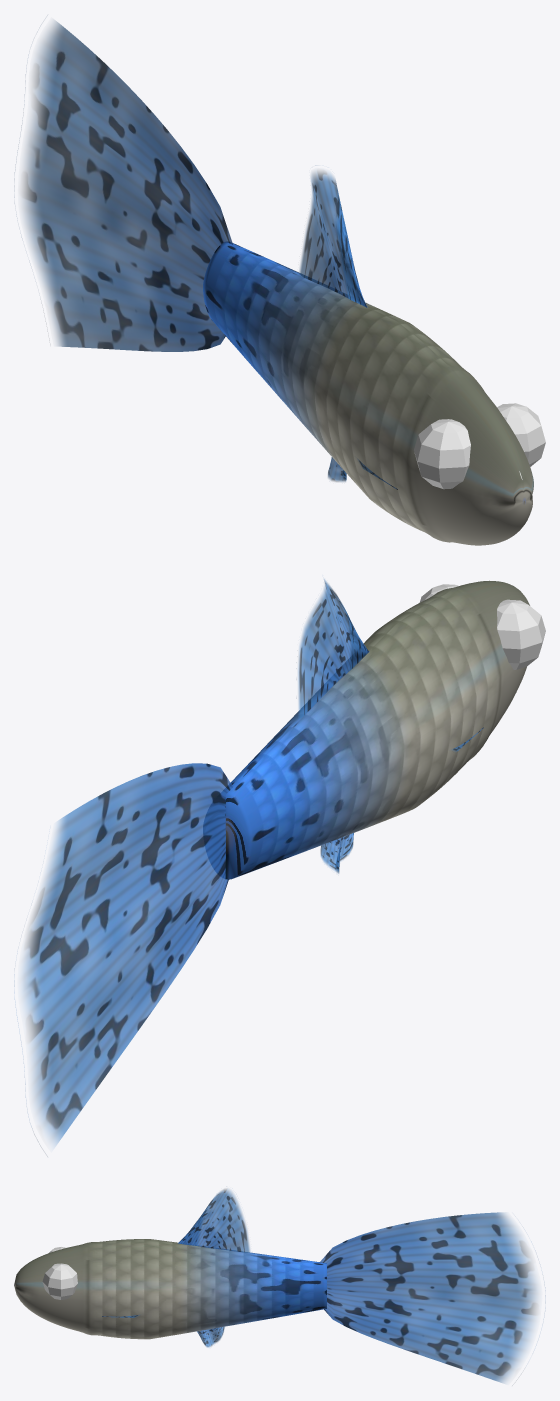
File: guppy-2.glb
The picture shows the model from 3 angles, top to bottom: view 1: azimuth 30°, elevation 25°; view 2: azimuth 150°, elevation 25°; view 3: azimuth 270°, elevation 25°; orthographic projection. The views are drawn at different scales.
Parts seen in each view (by area): view 1: Fins, Body, EyeL, EyeR; view 2: Fins, Body, EyeL; view 3: Fins, Body, EyeR.
Part boxes in pixels (x1,y1,x2,y2): Fins: (14,21,367,481); Body: (203,241,533,545); EyeL: (414,419,470,489); EyeR: (497,403,545,466); Fins: (14,579,369,1156); Body: (203,580,529,879); EyeL: (497,599,545,669); Fins: (178,1189,545,1383); Body: (14,1239,326,1339); EyeR: (42,1263,77,1299).
Size of the model in its own units: 0.0866 by 0.2524 by 0.6092.
2 materials, 2 textured.
